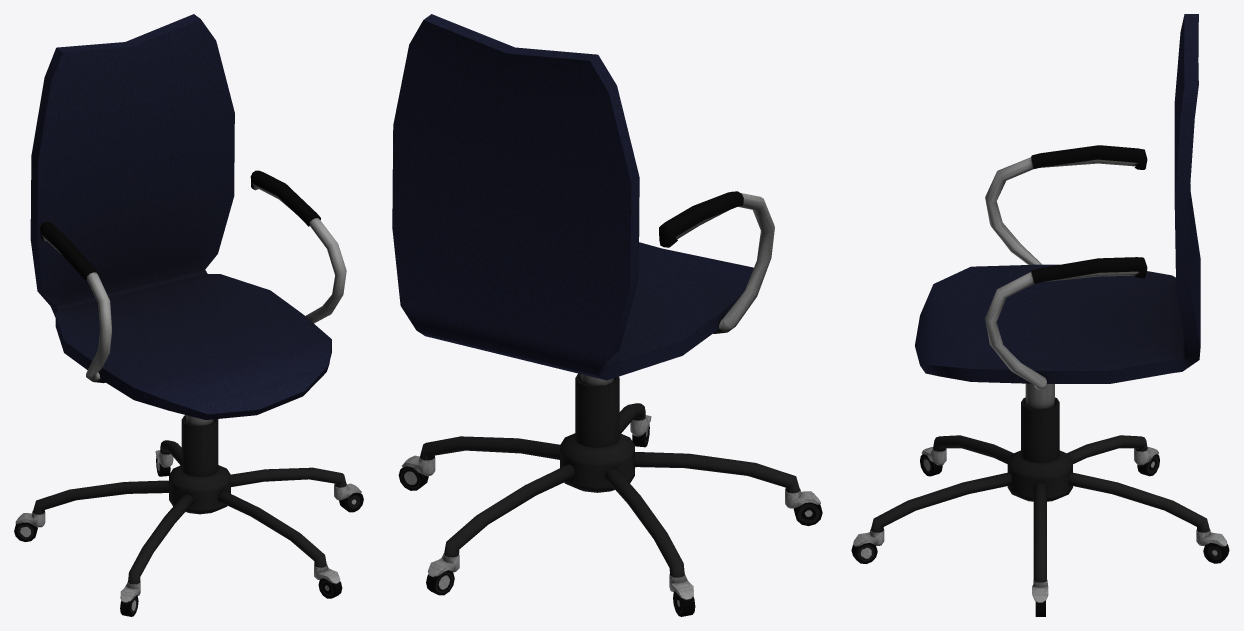
The model's file is chair_03.fbx.
3 renders of one model, left to right at view 1: azimuth 30°, elevation 25°; view 2: azimuth 150°, elevation 25°; view 3: azimuth 270°, elevation 25°, orthographic. The views are drawn at different scales.
Visible parts, largest first — view 1: headusOBJexport4; view 2: headusOBJexport4; view 3: headusOBJexport4.
Boxes of the visible parts, x1,y1,x2,y2 form: headusOBJexport4: (14, 14, 363, 616); headusOBJexport4: (392, 14, 822, 616); headusOBJexport4: (851, 14, 1229, 616).
Bounding box in the file's own units: 0.8498 × 1.27 × 0.8929.
